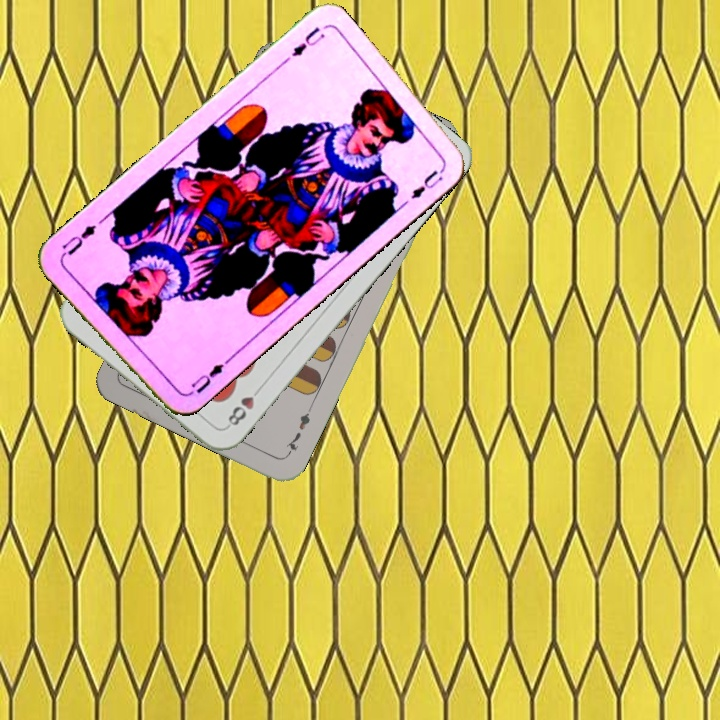E7: (281, 404, 314, 459)
EU: (181, 356, 231, 399), (287, 22, 328, 59)
H8: (222, 381, 265, 431)
